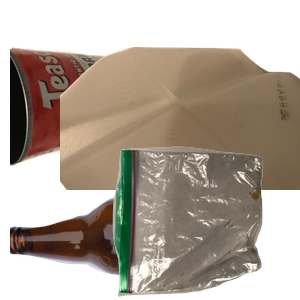glass: (10, 188, 250, 300)
metal: (10, 44, 151, 203)
plastic: (60, 44, 300, 224)
trash: (110, 144, 300, 300)
